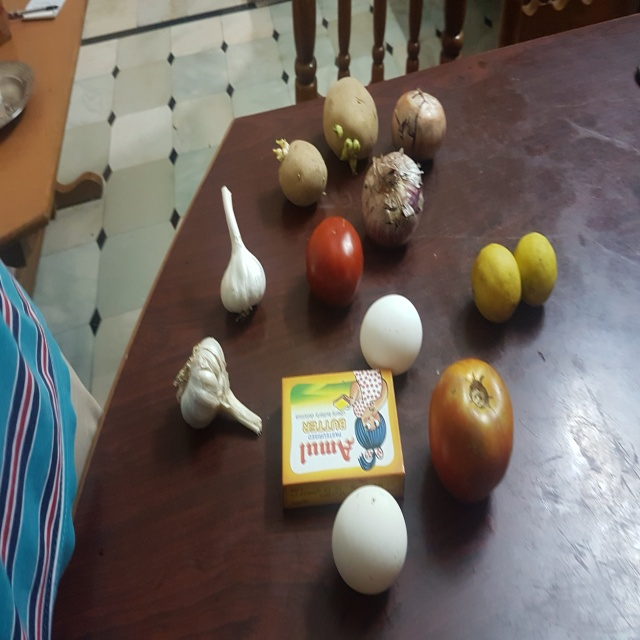butter: (277, 365, 410, 497)
eggs: (333, 479, 408, 600), (356, 290, 429, 377)
garlic: (164, 337, 273, 442), (213, 181, 280, 328)
lemon: (504, 229, 568, 313), (467, 240, 525, 327)
onion: (354, 142, 438, 254), (389, 77, 456, 167)
potato: (321, 73, 382, 167), (272, 141, 336, 213)
tomato: (424, 356, 530, 504), (292, 210, 374, 316)
